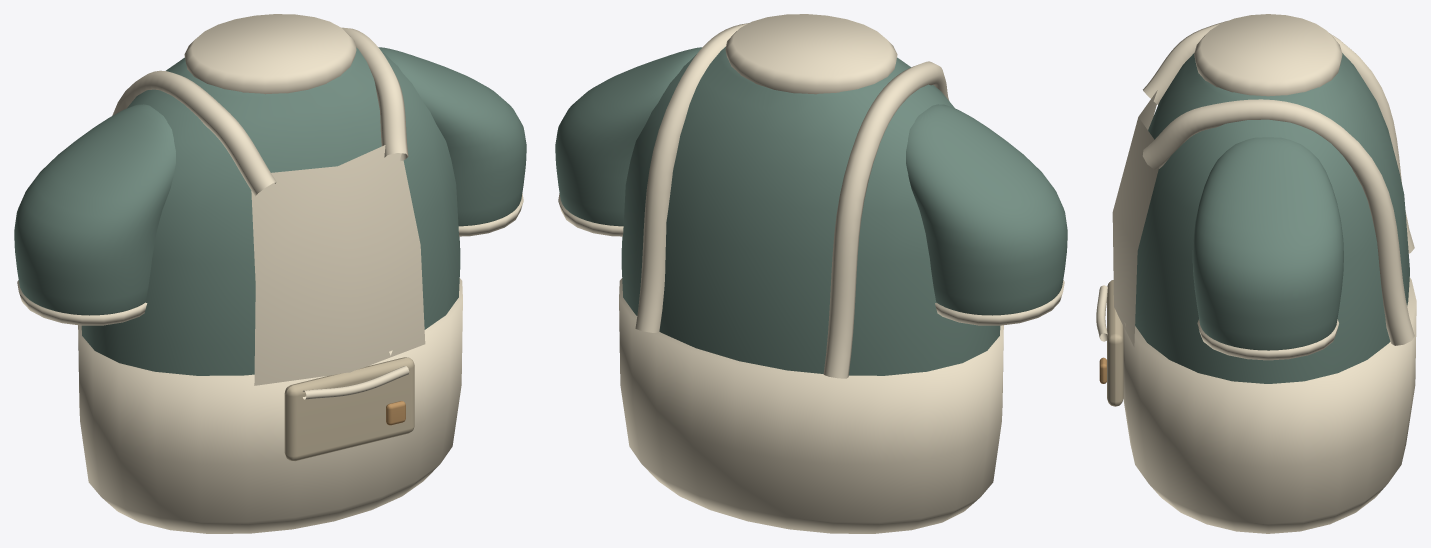
The model's file is apron.glb.
3 views of the same model, side by side, from view 1: azimuth 30°, elevation 25°; view 2: azimuth 150°, elevation 25°; view 3: azimuth 270°, elevation 25° (orthographic). The views are drawn at different scales.
Visible parts, largest first — view 1: garmentBody, apronSkirt, apronBib, sleeveClothL, sleeveClothR, collar, apronPocket, apronStrap-1, apronStrap1, cuffL, pocketLip, cuffR; view 2: garmentBody, apronSkirt, sleeveClothL, sleeveClothR, collar, apronStrap-1, apronStrap1, cuffL, cuffR; view 3: apronSkirt, garmentBody, sleeveClothR, apronStrap1, collar, apronBib, apronStrap-1, apronPocket, cuffR, pocketLip.
Part boxes in pixels (x1,y1,x2,y2): garmentBody: (81,47,460,375); apronSkirt: (78,278,462,533); apronBib: (251,145,425,385); sleeveClothL: (14,104,175,315); sleeveClothR: (378,47,526,226); collar: (184,14,356,94); apronPocket: (284,357,414,461); apronStrap-1: (112,70,276,196); apronStrap1: (341,27,408,161); cuffL: (17,280,147,325); pocketLip: (303,366,409,399); cuffR: (458,193,523,236); garmentBody: (621,46,1000,375); apronSkirt: (619,278,1003,533); sleeveClothL: (906,104,1067,315); sleeveClothR: (555,47,701,226); collar: (725,14,897,94); apronStrap-1: (823,61,949,378); apronStrap1: (635,23,748,332); cuffL: (935,280,1064,325); cuffR: (558,193,623,236); apronSkirt: (1123,277,1416,533); garmentBody: (1135,53,1409,383); sleeveClothR: (1192,137,1343,350); apronStrap1: (1142,99,1414,345); collar: (1194,14,1342,96); apronBib: (1112,90,1159,346); apronStrap-1: (1143,21,1414,253); apronPocket: (1107,280,1123,406); cuffR: (1197,319,1338,360); pocketLip: (1096,285,1107,341).
Size of the model in its own units: 0.8328 by 0.697 by 0.488.
